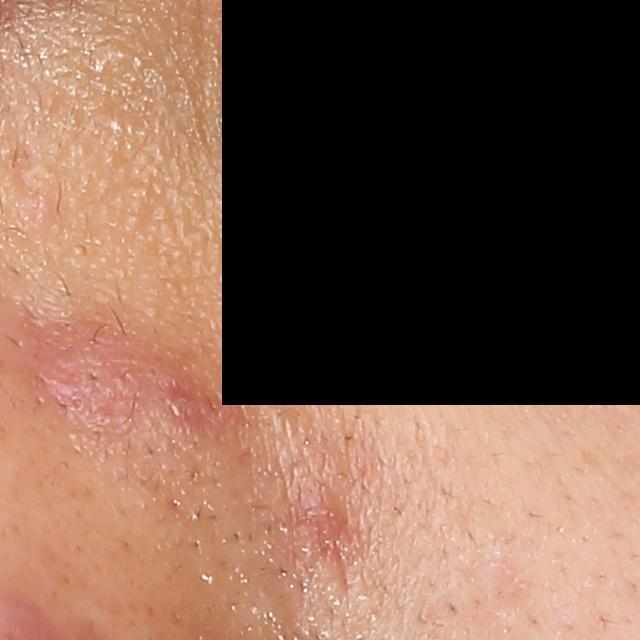nodule: (38, 318, 254, 449)
papule: (285, 475, 345, 539)
